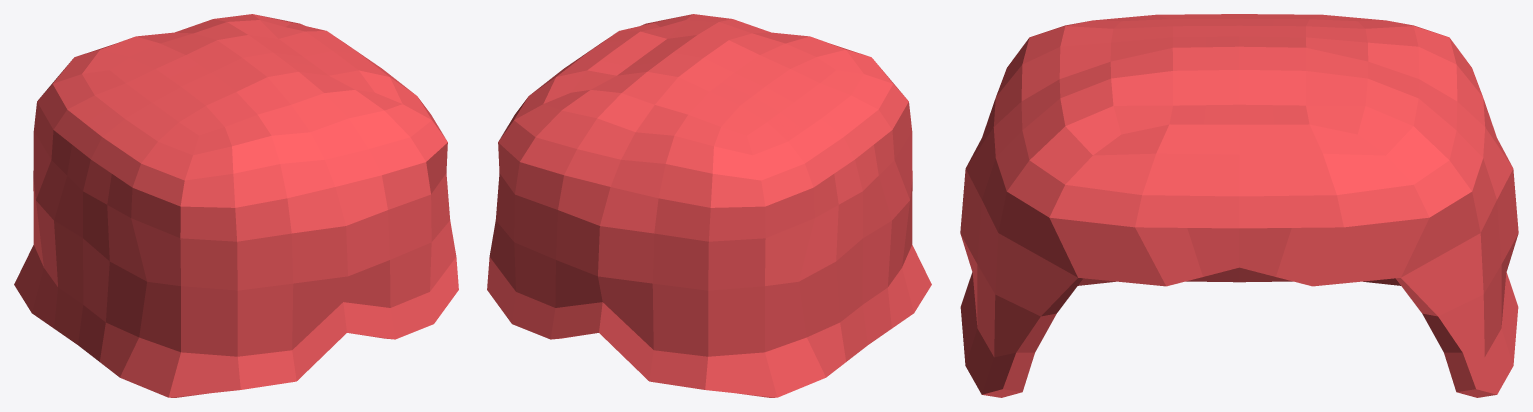
The model's file is cabelo4.fbx.
3 views of the same model, side by side, from view 1: azimuth 30°, elevation 25°; view 2: azimuth 150°, elevation 25°; view 3: azimuth 270°, elevation 25° (orthographic). The views are drawn at different scales.
Parts seen in each view (by area): view 1: Cube.011; view 2: Cube.011; view 3: Cube.011.
Boxes of the visible parts, <box> form: Cube.011: <box>14,14,458,397</box>; Cube.011: <box>487,14,931,397</box>; Cube.011: <box>960,14,1518,397</box>.
Bounding box in the file's own units: 233 × 173 × 263.
